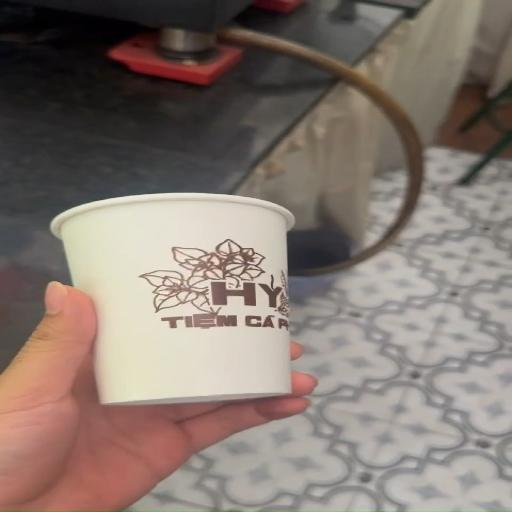Ly_giay: (51, 193, 292, 405)
